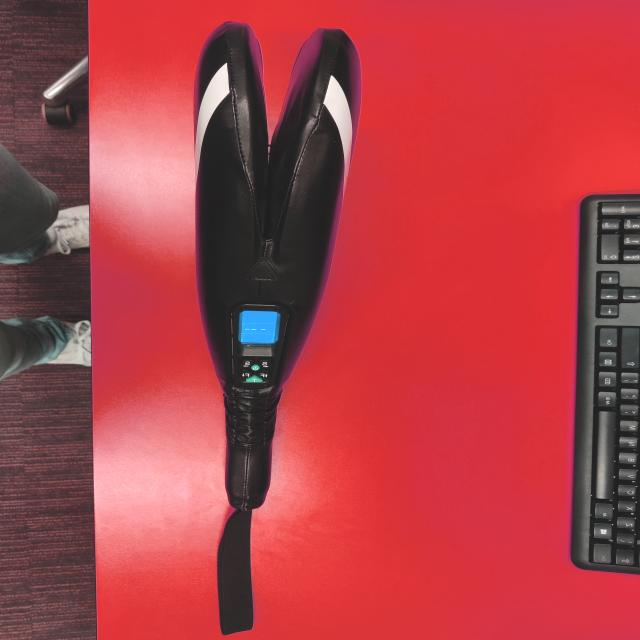paddle: (184, 18, 368, 510)
